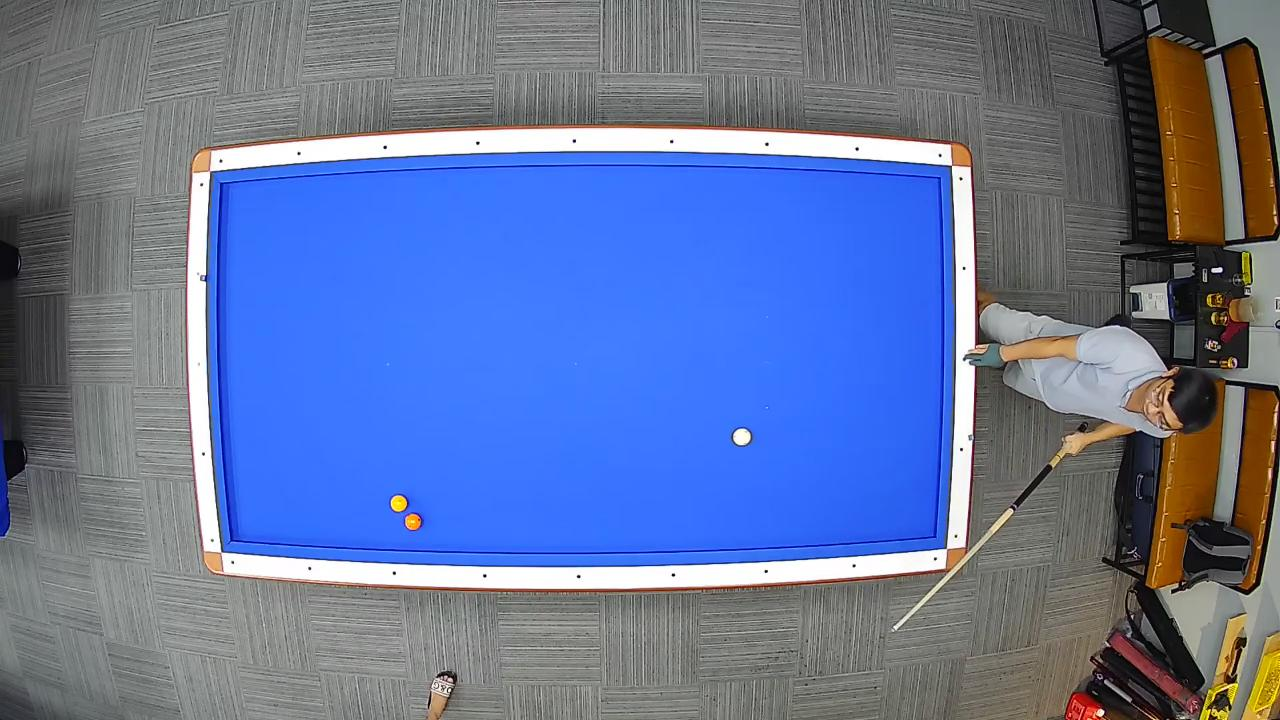Orange: (404, 512, 423, 532)
White: (732, 426, 752, 447)
Yellow: (389, 493, 408, 513)
